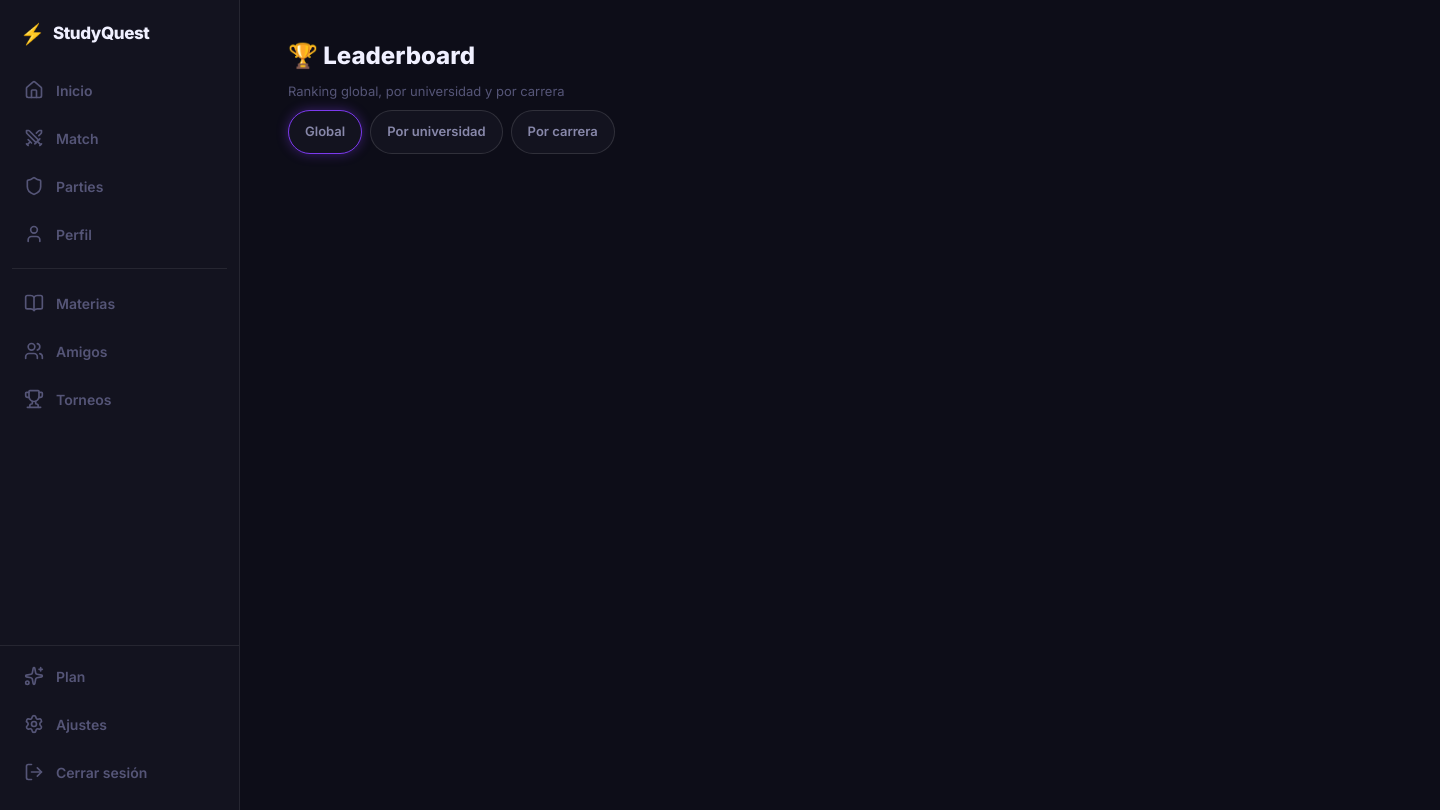
Test: LeaderboardPage › shows an empty state on Por carrera when the user has no career yet
Click the tab "Por carrera". click: (563, 132)
box: x1=511 y1=110 x2=615 y2=154
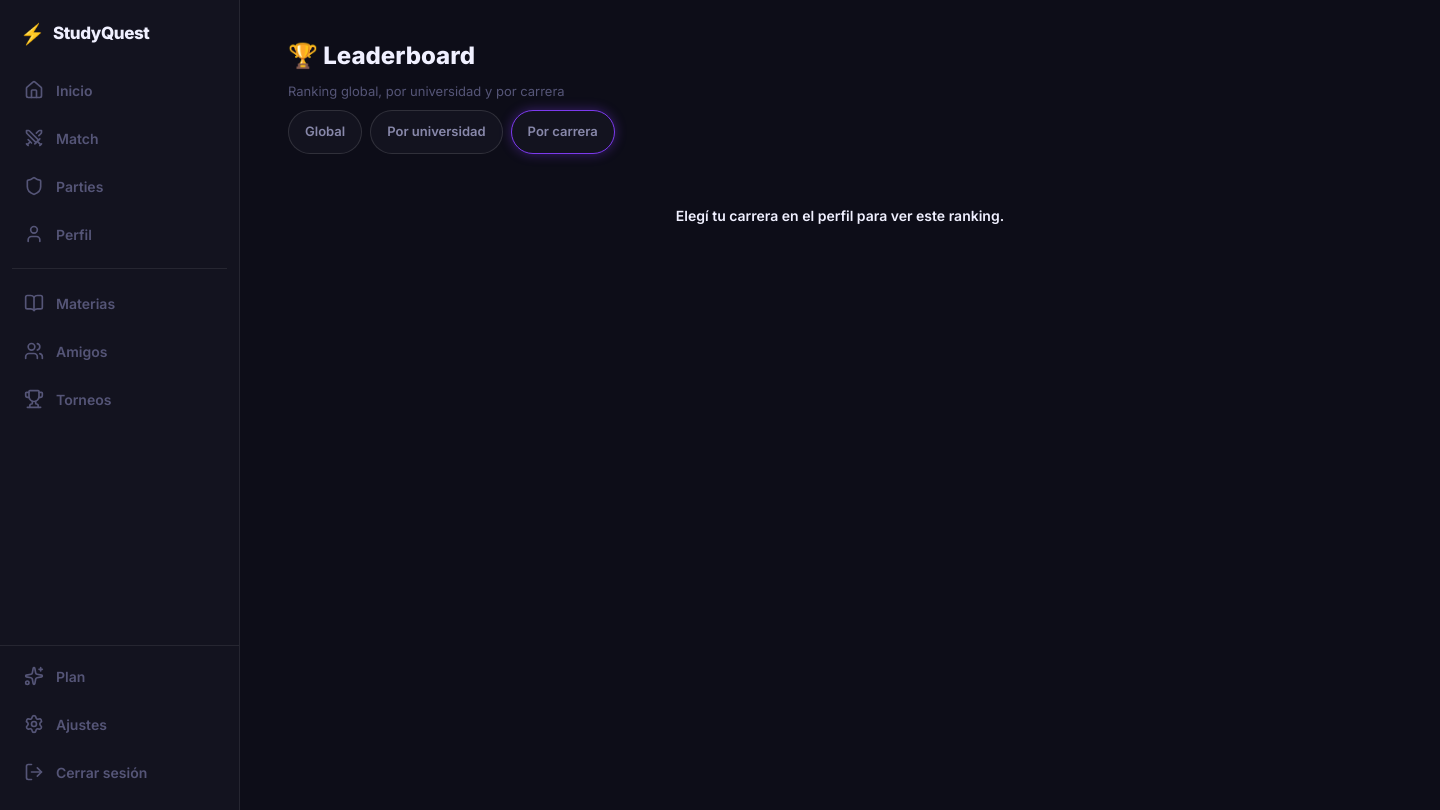
Check: the text "Elegí tu carrera en el perfil para ver este ranking." is shown, box x1=676 y1=206 x2=1004 y2=224
